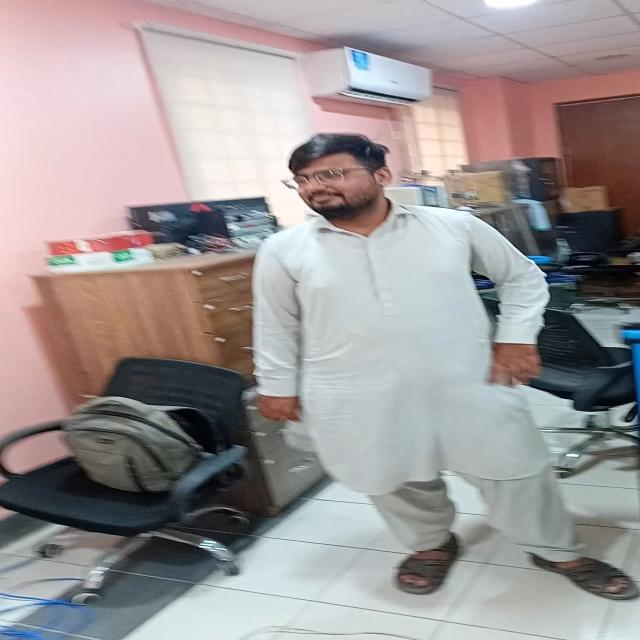dress: (247, 200, 581, 562)
glasses: (282, 168, 364, 189)
